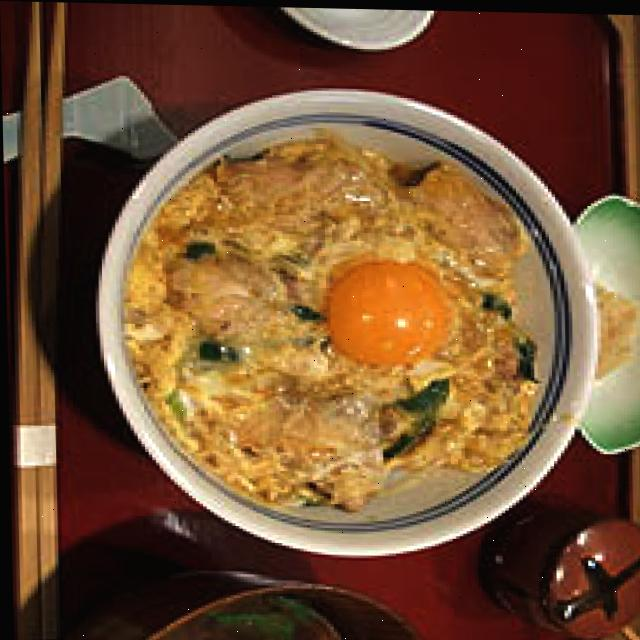米饭主食: (72, 68, 607, 563)
